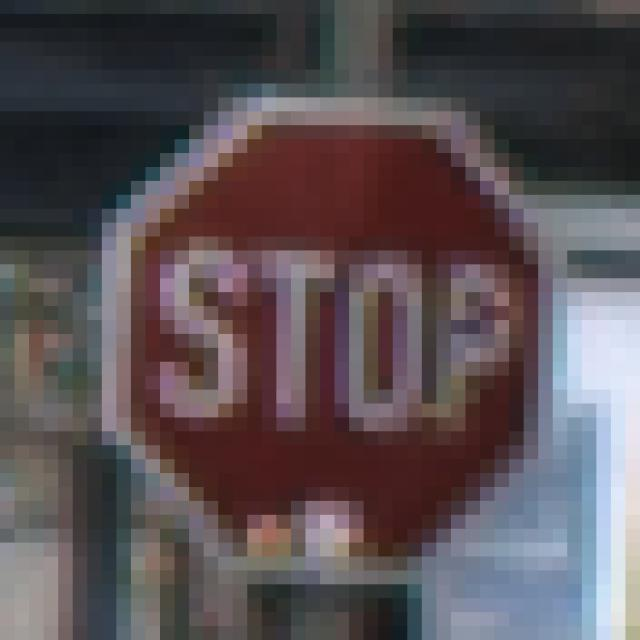STOP: (89, 85, 569, 572)
